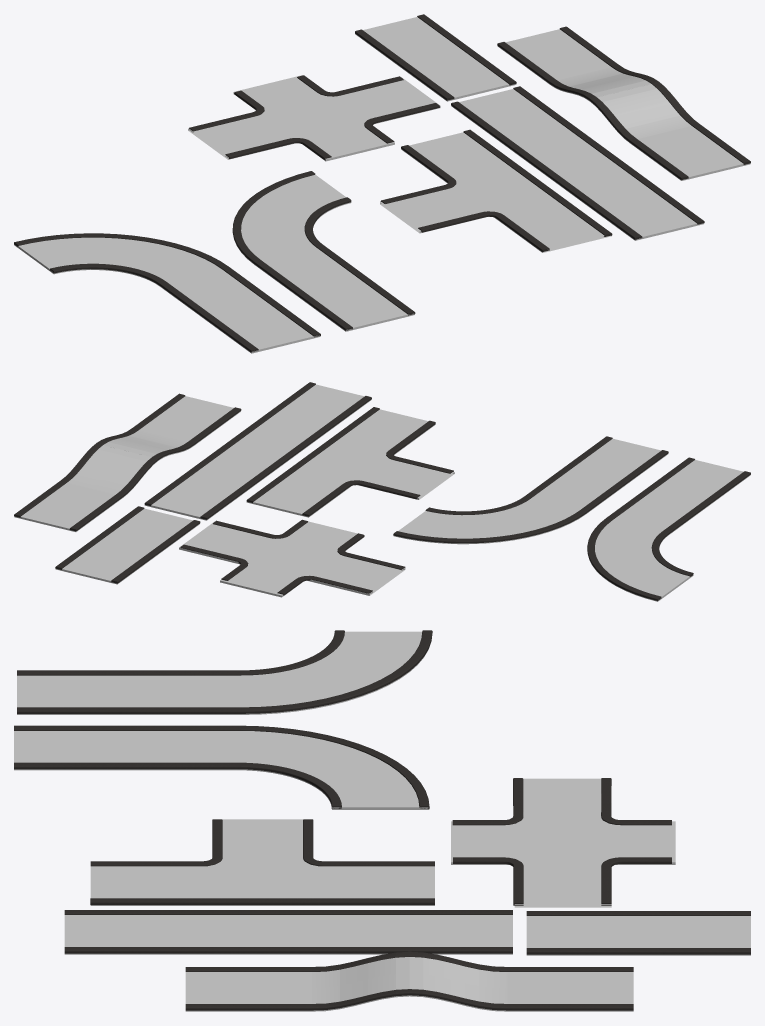
The model's file is Roads1.fbx.
3 renders of one model, top to bottom at view 1: azimuth 30°, elevation 25°; view 2: azimuth 150°, elevation 25°; view 3: azimuth 270°, elevation 25°, orthographic. The views are drawn at different scales.
Parts seen in each view (by area): view 1: pCube33, pCube39, pCube35, pCube34, pCube32, pCube37, pCube38; view 2: pCube32, pCube39, pCube35, pCube34, pCube33, pCube37, pCube38; view 3: pCube32, pCube35, pCube34, pCube33, pCube39, pCube37, pCube38.
Boxes of the visible parts, x1,y1,x2,y2 form: pCube33: (14, 233, 320, 353); pCube39: (380, 129, 612, 252); pCube35: (497, 26, 750, 180); pCube34: (451, 86, 704, 240); pCube32: (232, 171, 415, 331); pCube37: (188, 75, 440, 161); pCube38: (355, 14, 516, 101); pCube32: (393, 436, 668, 544); pCube39: (246, 407, 454, 517); pCube35: (14, 393, 241, 531); pCube34: (144, 382, 371, 520); pCube33: (587, 457, 750, 601); pCube37: (179, 519, 405, 597); pCube38: (55, 506, 200, 584); pCube32: (14, 725, 429, 809); pCube35: (185, 951, 633, 1011); pCube34: (64, 910, 512, 954); pCube33: (17, 630, 432, 714); pCube39: (90, 819, 434, 905); pCube37: (451, 778, 675, 907); pCube38: (526, 911, 750, 955).
Bounding box in the file's own units: 116 × 2.74 × 95.99.
